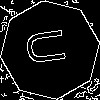U: (25, 25, 76, 68)
